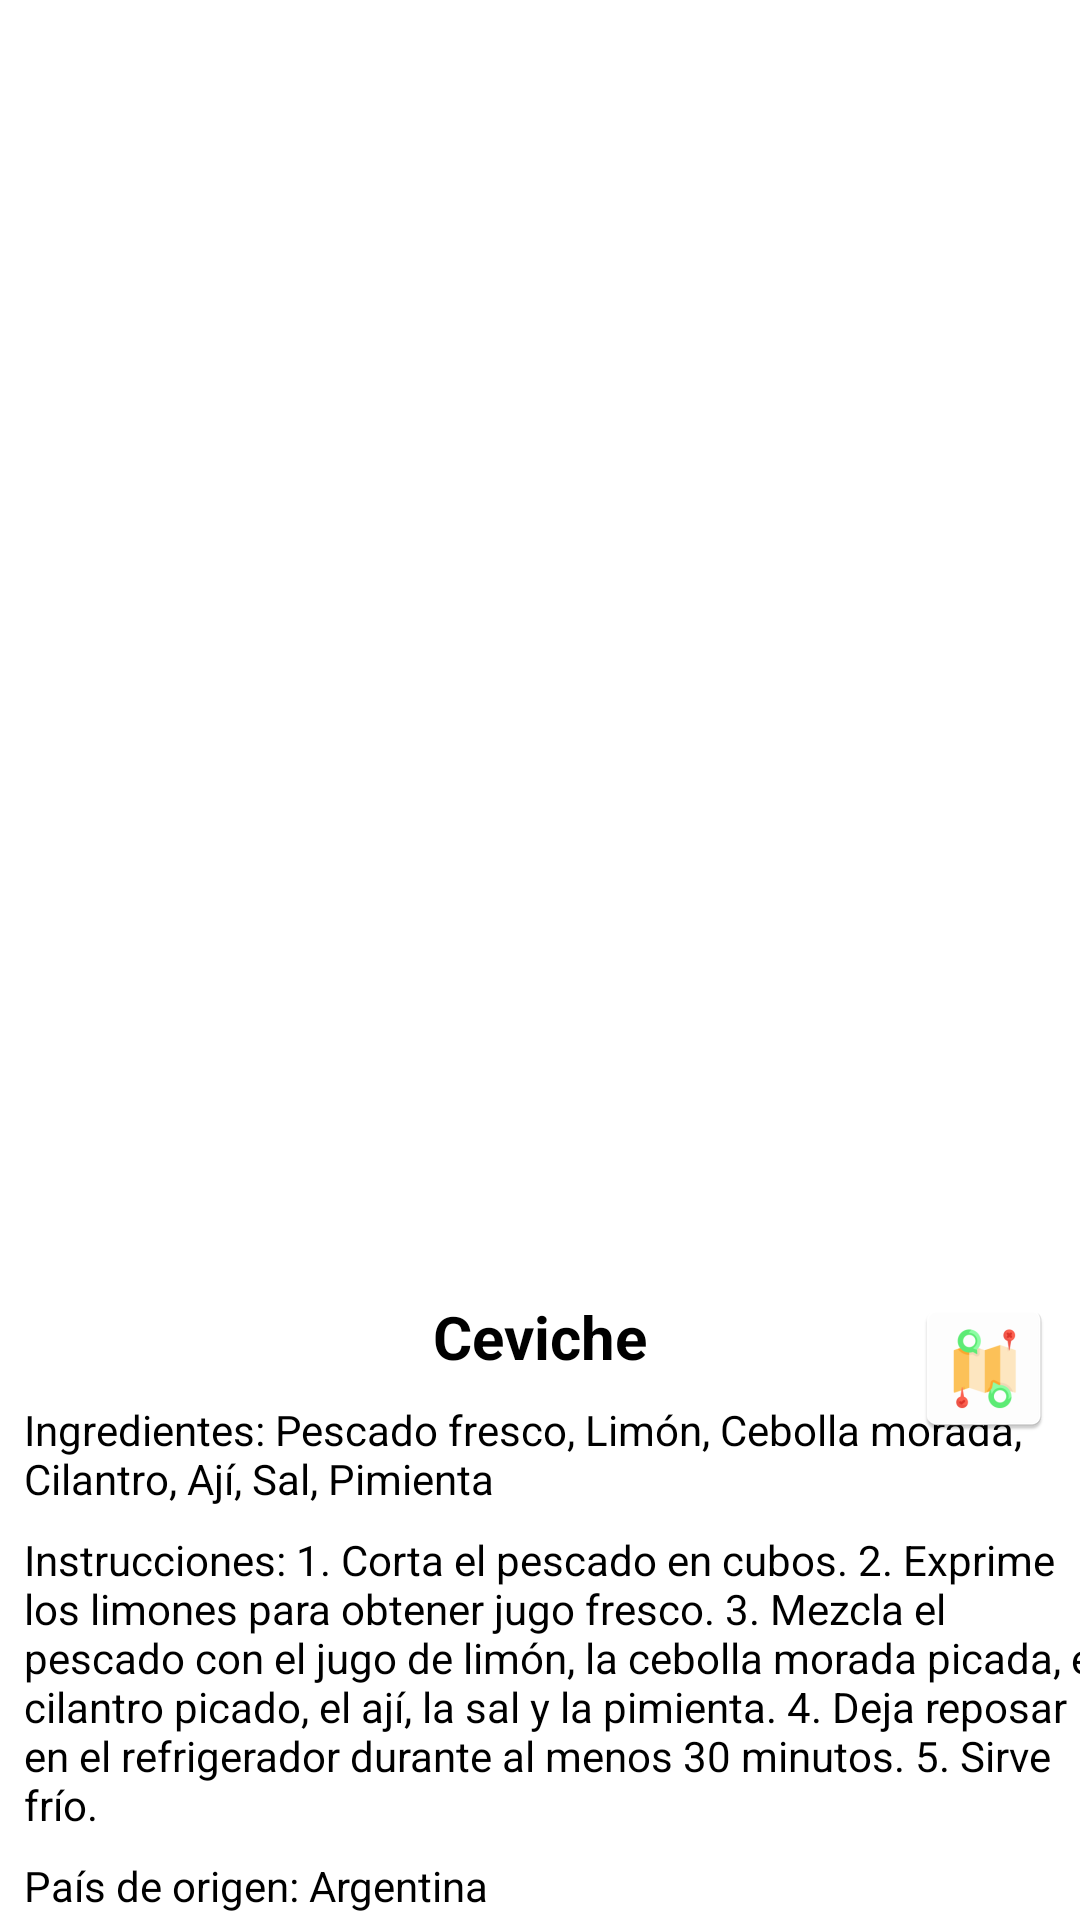

Screen size 1080px×1920px. Icon name, then its box in pixels as (x1, y1, x2, y2):
map: (953, 1329, 1016, 1408)
